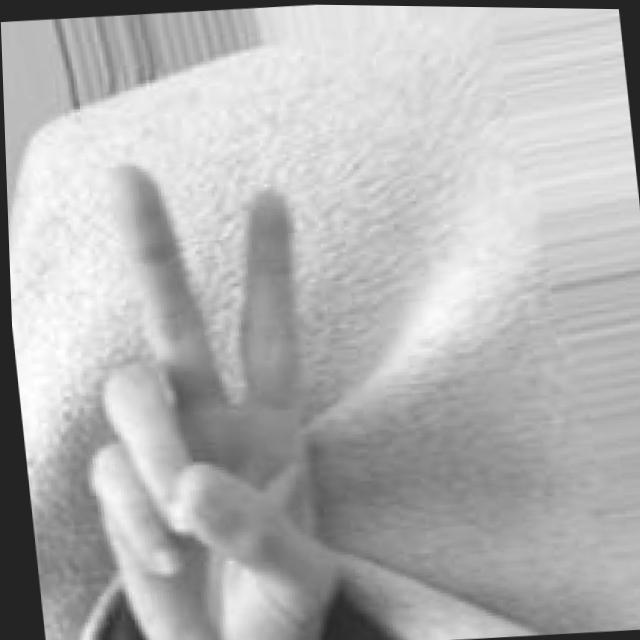V: (53, 143, 351, 640)
